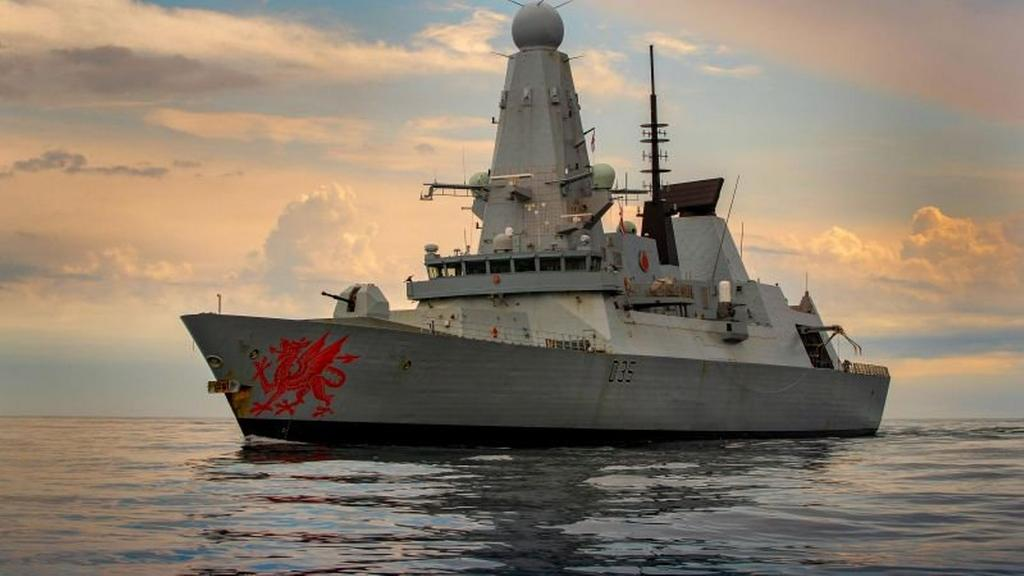Warship: (166, 0, 896, 448)
